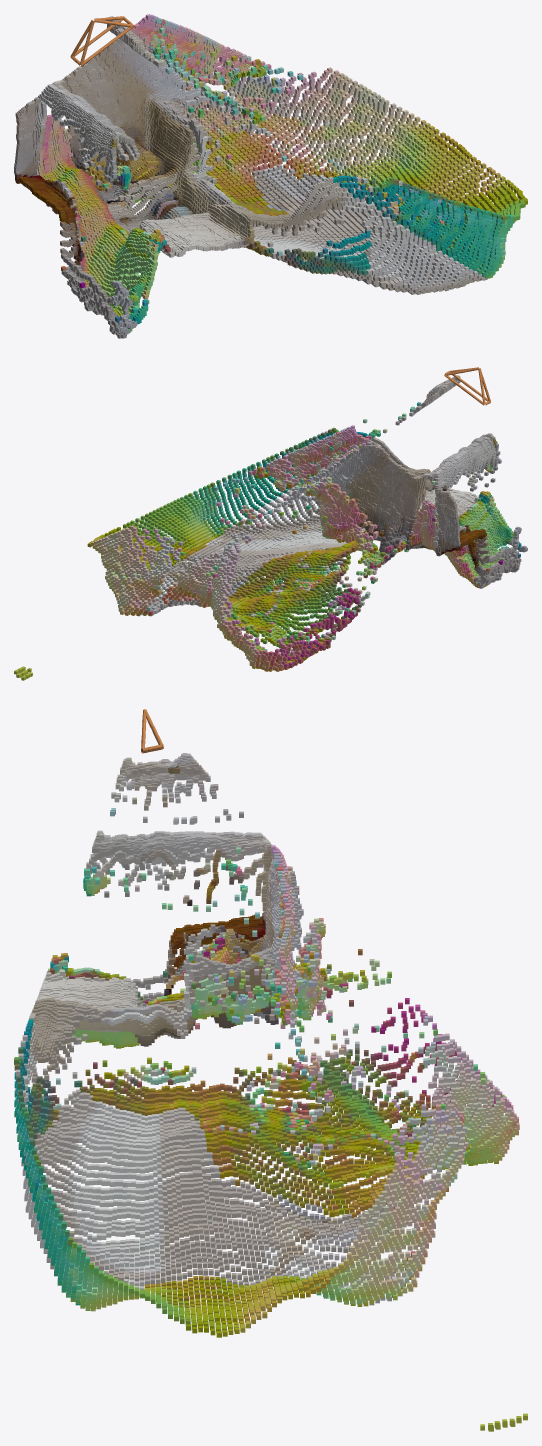
The model's file is pred_1-compressed.glb.
The picture shows the model from 3 angles, top to bottom: view 1: azimuth 30°, elevation 25°; view 2: azimuth 150°, elevation 25°; view 3: azimuth 270°, elevation 25°; orthographic projection. The views are drawn at different scales.
Size of the model in its own units: 6.78 by 5.33 by 5.28.
